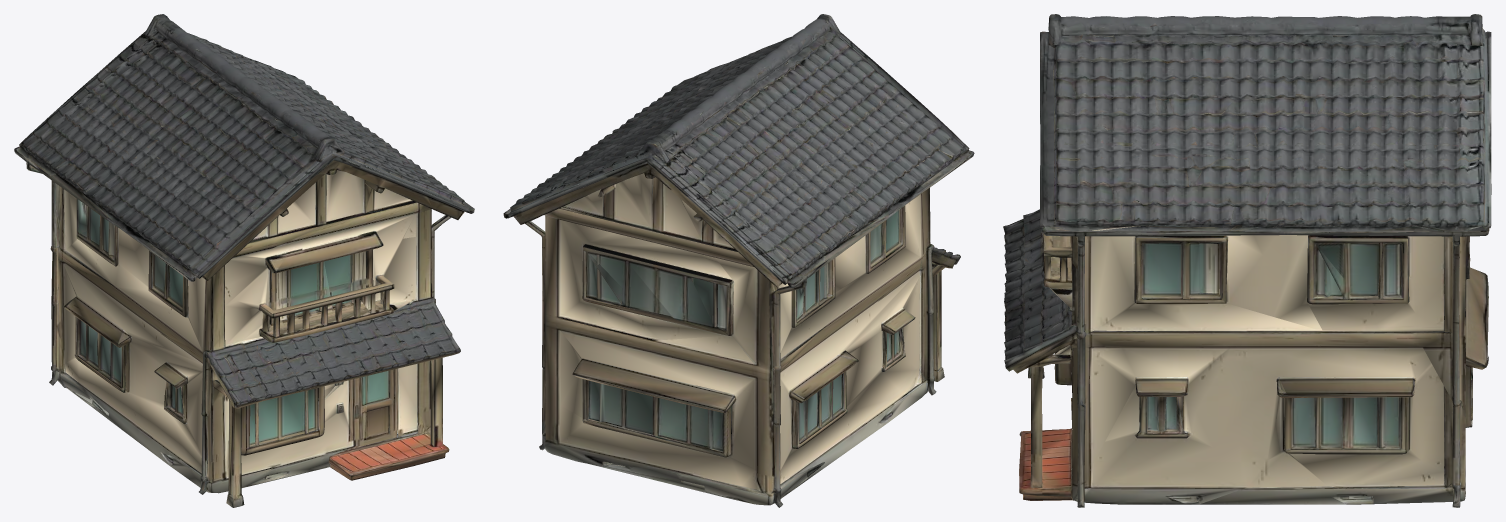
The model's file is kuku-house-2.glb.
3 renders of one model, left to right at view 1: azimuth 30°, elevation 25°; view 2: azimuth 150°, elevation 25°; view 3: azimuth 270°, elevation 25°, orthographic. The views are drawn at different scales.
Visible parts, largest first — view 1: Mesh_0; view 2: Mesh_0; view 3: Mesh_0.
Part boxes in pixels (x1,y1,x2,y2): Mesh_0: (14,14,474,507); Mesh_0: (503,14,974,507); Mesh_0: (1003,14,1491,507).
Bounding box in the file's own units: 1.61 × 1.82 × 1.91.
1 material, 1 textured.
